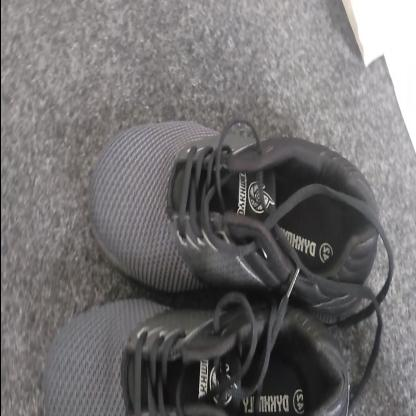safety-shoe: (42, 118, 380, 416)
